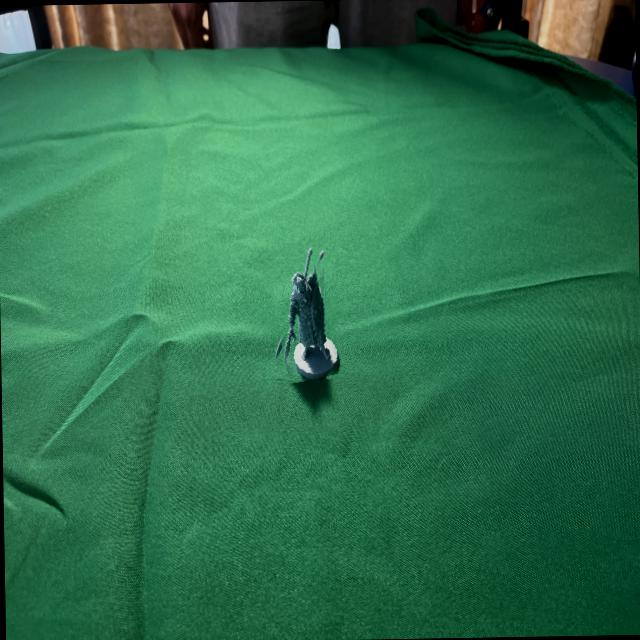isis_follower: (268, 243, 338, 382)
